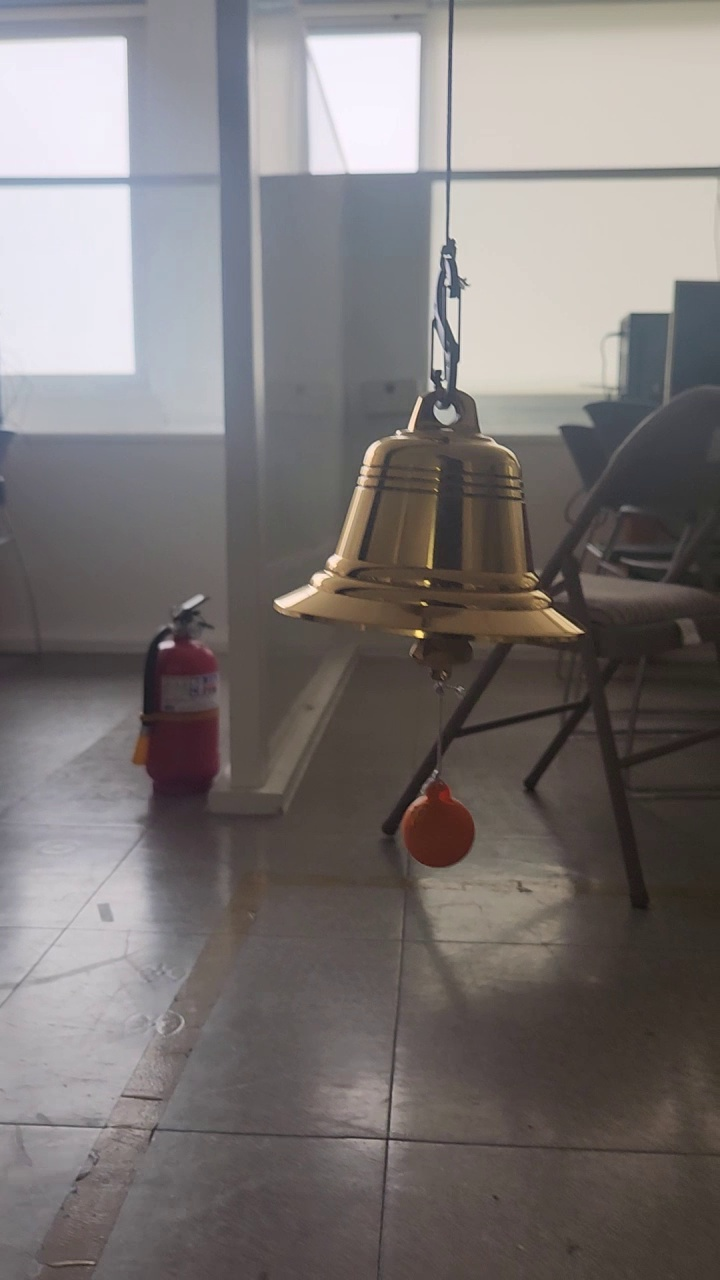bell: (274, 394, 590, 647)
